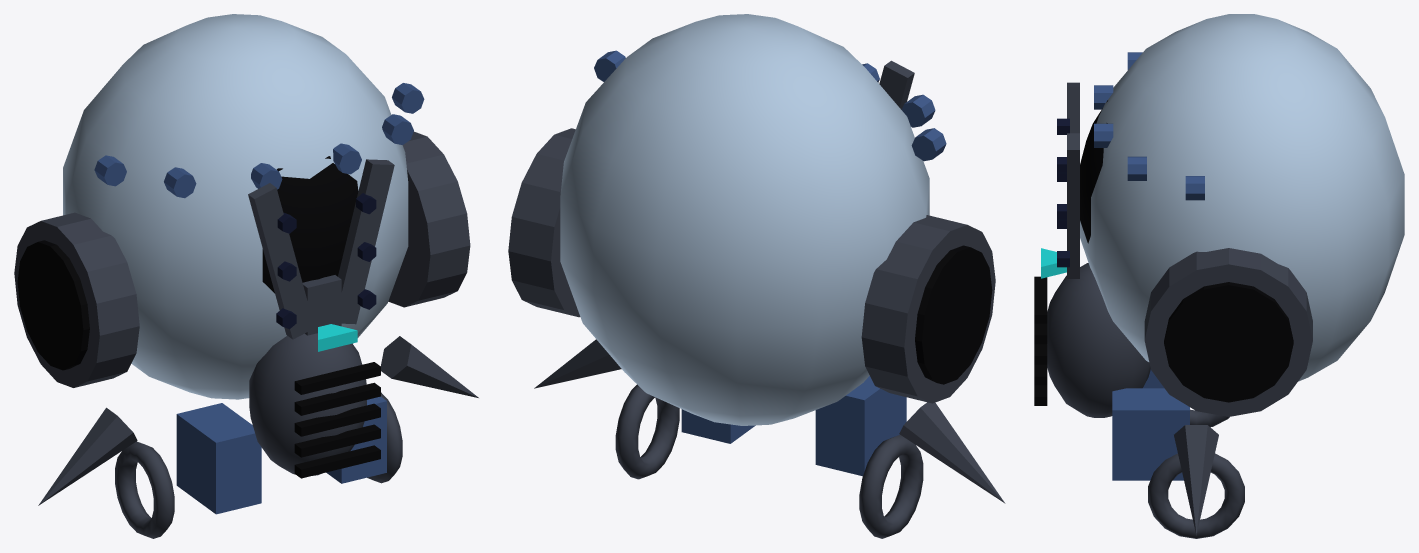
File: Enemy_ghost.fbx
3 views of the same model, side by side, from view 1: azimuth 30°, elevation 25°; view 2: azimuth 150°, elevation 25°; view 3: azimuth 270°, elevation 25° (orthographic). The views are drawn at different scales.
Visible parts, largest first — view 1: Enemy_ghost; view 2: Enemy_ghost; view 3: Enemy_ghost.
Part boxes in pixels (box(x1,y1,x2,y2)): Enemy_ghost: box(14, 14, 478, 538); Enemy_ghost: box(508, 14, 1005, 538); Enemy_ghost: box(1034, 14, 1404, 538).
Bounding box in the file's own units: 0.7749 × 0.776 × 0.5711.
